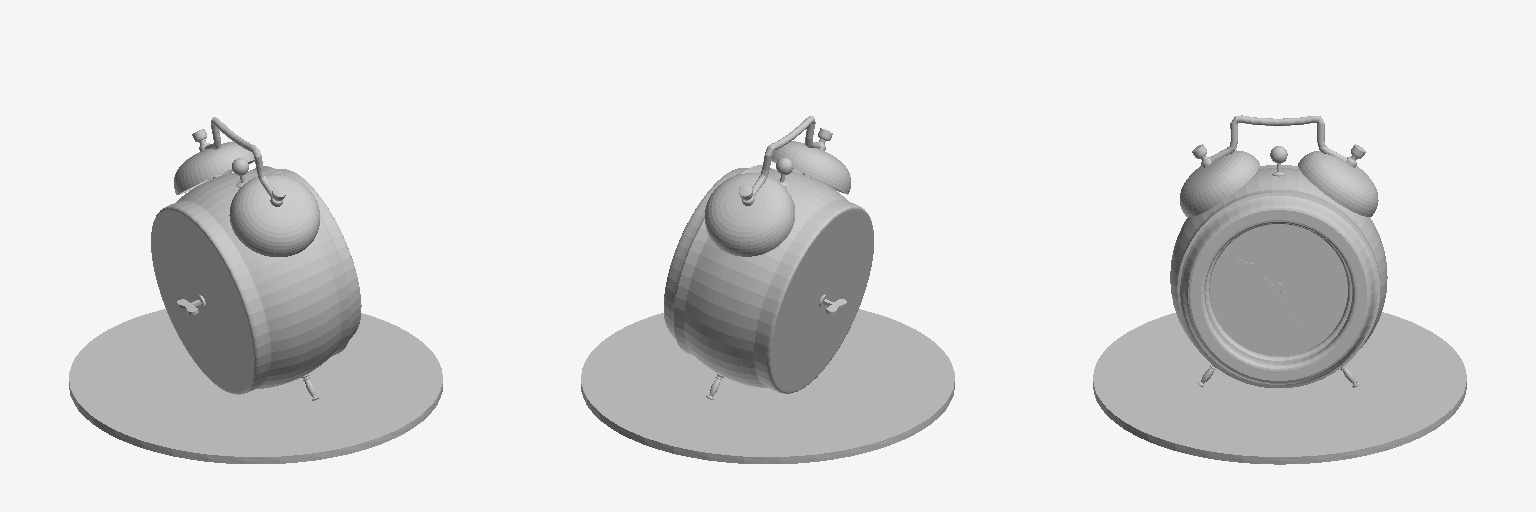
Rendered from clock_7.obj.
3 views of the same model, side by side, from view 1: azimuth 30°, elevation 25°; view 2: azimuth 150°, elevation 25°; view 3: azimuth 270°, elevation 25° (orthographic).
Visible parts, largest first — view 1: base_Cylinder, case_Rectangle001, bellL_Sphere001, bellR_Sphere002, handle_Loft001; view 2: base_Cylinder, case_Rectangle001, bellR_Sphere002, bellL_Sphere001, handle_Loft001; view 3: base_Cylinder, case_Rectangle001, face_Object, bellL_Sphere001, bellR_Sphere002, handle_Loft001, hands_Arc003.
Part boxes in pixels (left/top/right/bottom): base_Cylinder: left=69, top=309, right=442, bottom=463; case_Rectangle001: left=151, top=166, right=361, bottom=394; bellL_Sphere001: left=229, top=174, right=319, bottom=256; bellR_Sphere002: left=174, top=142, right=254, bottom=194; handle_Loft001: left=205, top=117, right=273, bottom=197; base_Cylinder: left=581, top=309, right=954, bottom=463; case_Rectangle001: left=664, top=165, right=873, bottom=393; bellR_Sphere002: left=705, top=173, right=794, bottom=256; bellL_Sphere001: left=771, top=141, right=850, bottom=194; handle_Loft001: left=752, top=116, right=820, bottom=196; base_Cylinder: left=1093, top=312, right=1466, bottom=464; case_Rectangle001: left=1170, top=165, right=1387, bottom=387; face_Object: left=1210, top=224, right=1347, bottom=355; bellL_Sphere001: left=1180, top=150, right=1259, bottom=216; bellR_Sphere002: left=1298, top=151, right=1378, bottom=216; handle_Loft001: left=1210, top=115, right=1346, bottom=161; hands_Arc003: left=1236, top=257, right=1340, bottom=339.
Bounding box in the file's own units: 207 × 158 × 207.